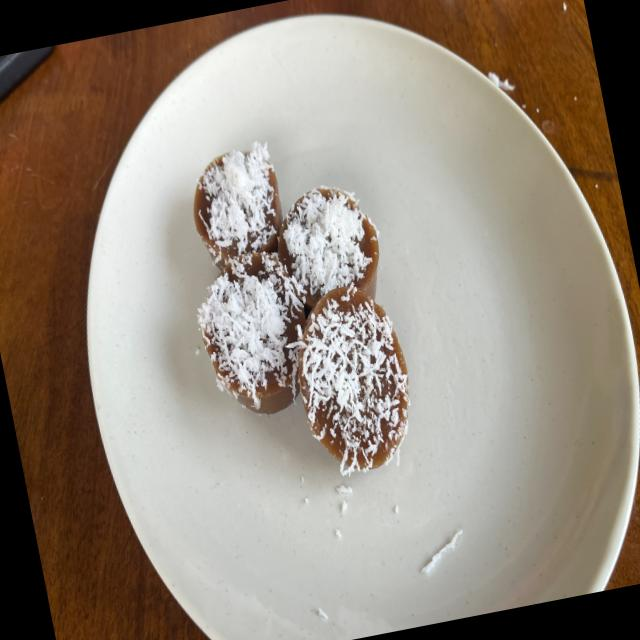Kuih lompang: (298, 284, 410, 476), (198, 251, 306, 414), (278, 186, 379, 314), (194, 142, 282, 275)
